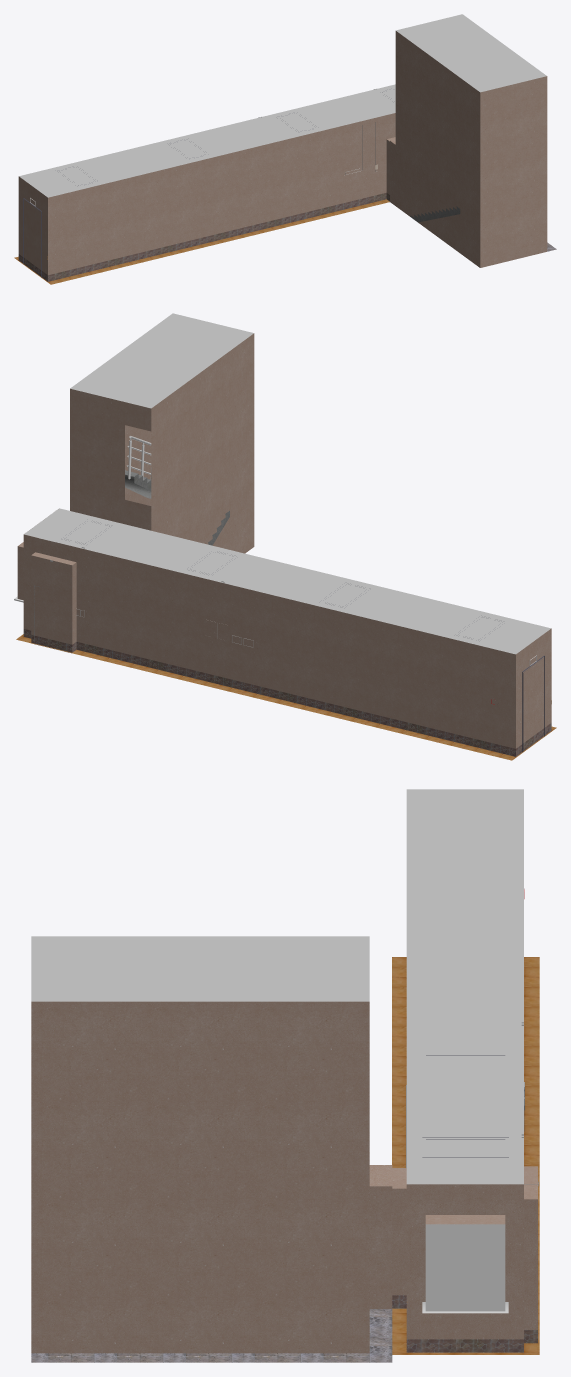
The model's file is koridor.fbx.
3 renders of one model, top to bottom at view 1: azimuth 30°, elevation 25°; view 2: azimuth 150°, elevation 25°; view 3: azimuth 270°, elevation 25°, orthographic. The views are drawn at different scales.
Parts seen in each view (by area): view 1: koridor.005, Box072, koridor.001, Object004.001, koridor.002, Line131; view 2: koridor.005, Box072, koridor.001, Object004.001, koridor.002, Line131; view 3: Box072, koridor.001, Object004.001, koridor.005, koridor.002, koridor.004, Object003.002.
Part boxes in pixels (x1,y1,x2,y2): koridor.005: (18, 113, 395, 281); Box072: (390, 31, 547, 267); koridor.001: (19, 84, 395, 197); Object004.001: (396, 14, 546, 92); koridor.002: (14, 199, 389, 284); Line131: (410, 206, 460, 222); koridor.005: (17, 534, 551, 756); Box072: (70, 333, 254, 553); koridor.001: (24, 508, 550, 654); Object004.001: (70, 313, 253, 408); koridor.002: (16, 634, 556, 760); Line131: (125, 470, 229, 545); Box072: (31, 1001, 392, 1353); koridor.001: (406, 789, 523, 1184); Object004.001: (31, 936, 369, 1001); koridor.005: (392, 1166, 537, 1352); koridor.002: (392, 957, 539, 1354); koridor.004: (422, 1224, 508, 1313); Object003.002: (31, 1309, 392, 1362).
Bounding box in the file's own units: 1448 × 584 × 764.
